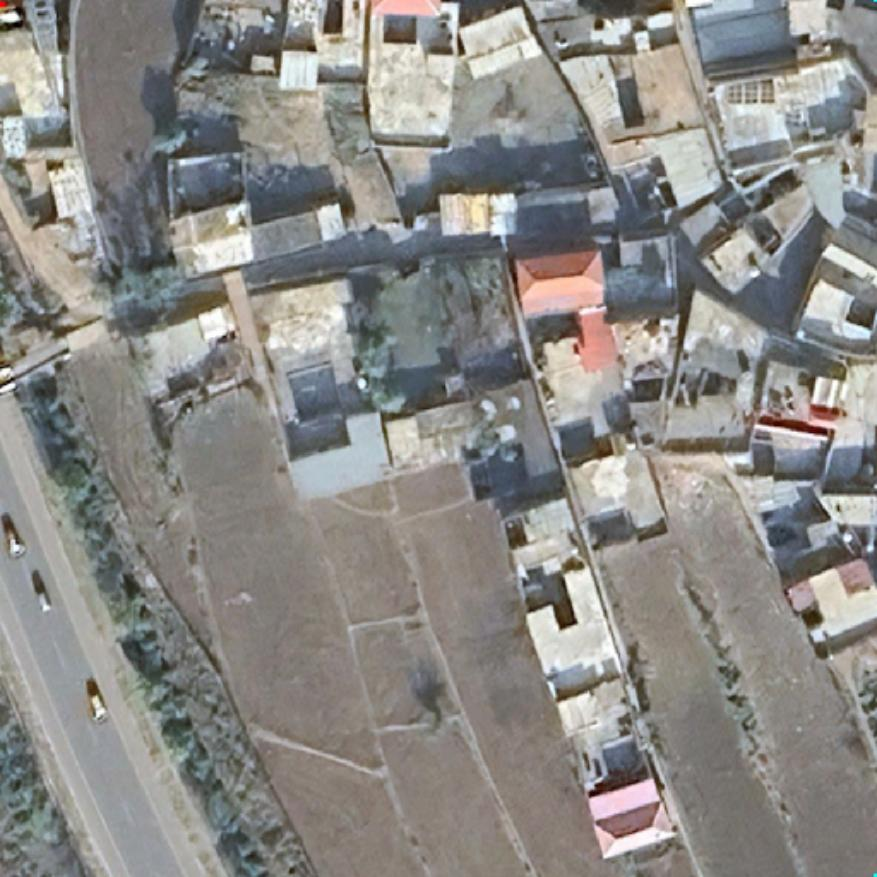Solarpanel: (722, 74, 780, 108)
